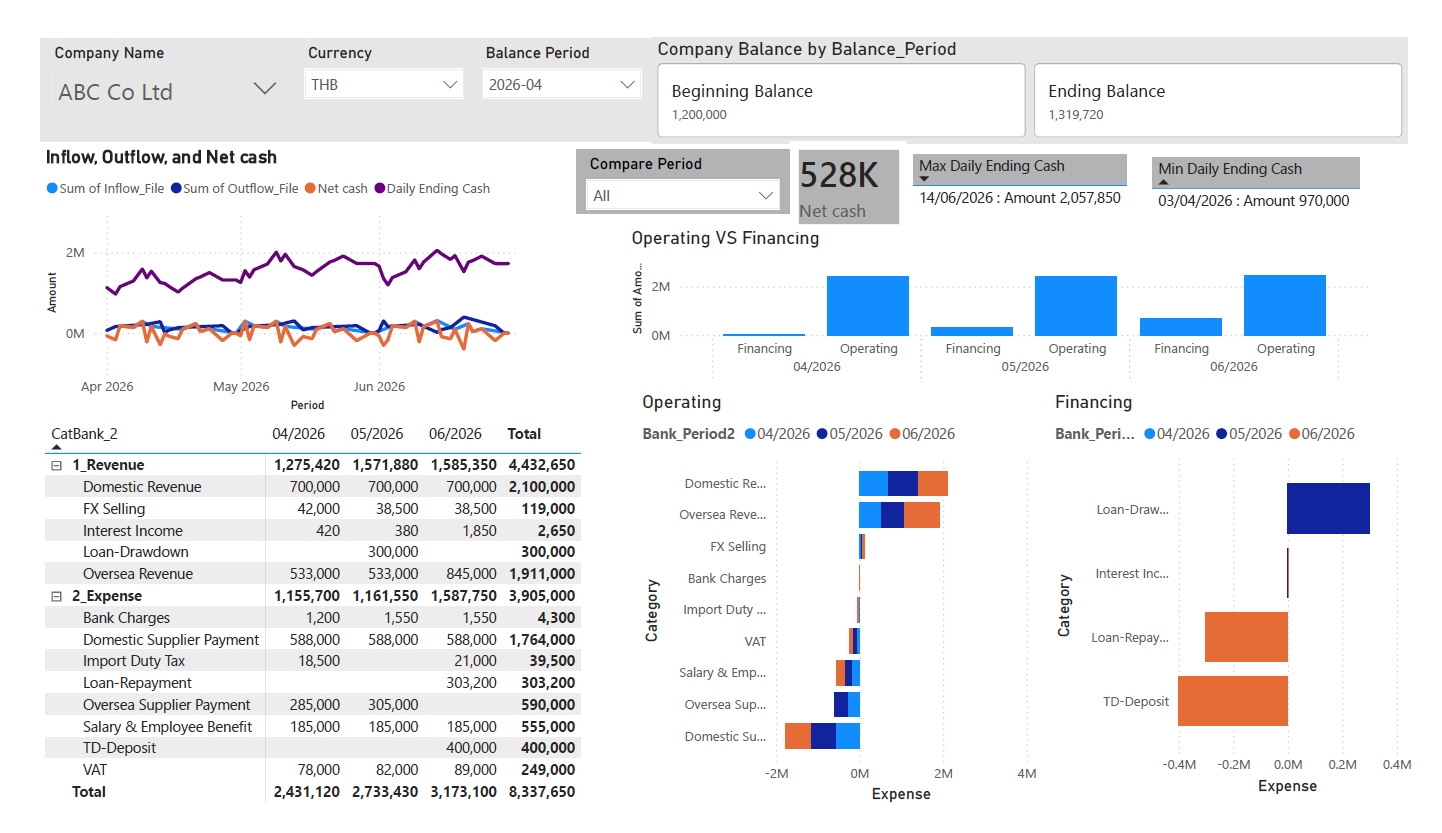

What the dashboard file says about the page in this screenshot:
{"tool":"powerbi","page":{"name":"Overview","canvas":[1280,720],"ordinal":0},"visuals":[{"type":"slicer","fields":{"Values":["HeaderMonthend.Co_Name"]},"box":[15.1,12.3,233.3,94.7],"z":0},{"type":"slicer","fields":{"Values":["HeaderMonthend.Monthend_Period"]},"box":[411.1,12.4,166.3,94.6],"z":1000},{"type":"advancedSlicerVisual","fields":{"Values":["HeaderMonthend.Balance_Period"],"Label":["Sum(HeaderMonthend.Bal.Amt.Element:Text)"]},"box":[577.6,12.5,694,94.9],"z":2000},{"type":"lineChart","title":"Inflow, Outflow, and Net cash","fields":{"Y":["Sum(Consolidation.Inflow_File)","Sum(Consolidation.Outflow_File)","Consolidation.Net Cash","Consolidation.Daily Ending Cash"],"Category":["Consolidation.BookingDate"]},"box":[15,111,459,249],"z":3000},{"type":"slicer","fields":{"Values":["Consolidation.Bank_Period2"]},"box":[506.6,113.8,196.9,59.3],"z":4000},{"type":"columnChart","title":"Operating VS Financing","fields":{"Category":["Consolidation.Bank_Period2","Consolidation.CatBank_3"],"Y":["Sum(Consolidation.Amount_Bank)"]},"box":[553.5,185.5,687.3,150.1],"z":5000},{"type":"barChart","title":"Operating","fields":{"Category":["Consolidation.CatBank_3.1"],"Y":["Sum(Consolidation.Signed_Amount_Bank)"],"Series":["Consolidation.Bank_Period2"]},"box":[563,335.5,371.9,383.3],"z":6000},{"type":"cardVisual","fields":{"Data":["Consolidation.Net cash"]},"box":[703.6,107.1,107.1,83.2],"z":7000},{"type":"pivotTable","fields":{"Rows":["Consolidation.CatBank_2","Consolidation.CatBank_4"],"Columns":["Consolidation.Bank_Period2","Consolidation.WeekLabel"],"Values":["Sum(Consolidation.Amount_Bank)"]},"box":[15,360,526,360],"z":8000},{"type":"tableEx","fields":{"Values":["Consolidation.Max_Cash_with_Date"]},"box":[810.6,113.8,220.8,68.8],"z":9000},{"type":"tableEx","fields":{"Values":["Consolidation.Min_Cash_with_Date"]},"box":[1031.5,116.6,239.9,66],"z":10000},{"type":"barChart","title":"Financing","fields":{"Category":["Consolidation.CatBank_3.1"],"Y":["Sum(Consolidation.Signed_Amount_Bank)"],"Series":["Consolidation.Bank_Period2"]},"box":[941.6,335.5,338.4,375.7],"z":11000},{"type":"slicer","fields":{"Values":["HeaderMonthend.Currency"]},"box":[248.4,12.3,166,94.7],"z":12000}]}

Visuals, with their boxes in screenshot pixels (x1, y1, x2, y2), scaled from the page's 1280x720 canvas onto the 1442x833 screenshot:
slicer - HeaderMonthend.Co_Name: [17, 14, 280, 124]
slicer - HeaderMonthend.Monthend_Period: [463, 14, 650, 124]
advancedSlicerVisual - HeaderMonthend.Balance_Period x Sum(HeaderMonthend.Bal.Amt.Element:Text): [651, 14, 1433, 124]
"Inflow, Outflow, and Net cash" lineChart: [17, 128, 534, 417]
slicer - Consolidation.Bank_Period2: [571, 132, 793, 200]
"Operating VS Financing" columnChart: [624, 215, 1398, 388]
"Operating" barChart: [634, 388, 1053, 832]
cardVisual - Consolidation.Net cash: [793, 124, 913, 220]
pivotTable - Consolidation.CatBank_2 x Consolidation.CatBank_4: [17, 417, 609, 832]
tableEx - Consolidation.Max_Cash_with_Date: [913, 132, 1162, 211]
tableEx - Consolidation.Min_Cash_with_Date: [1162, 135, 1432, 211]
"Financing" barChart: [1061, 388, 1441, 823]
slicer - HeaderMonthend.Currency: [280, 14, 467, 124]
